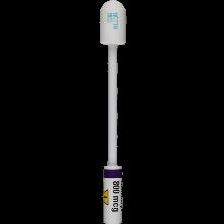63459-508: (0, 0, 224, 224)
